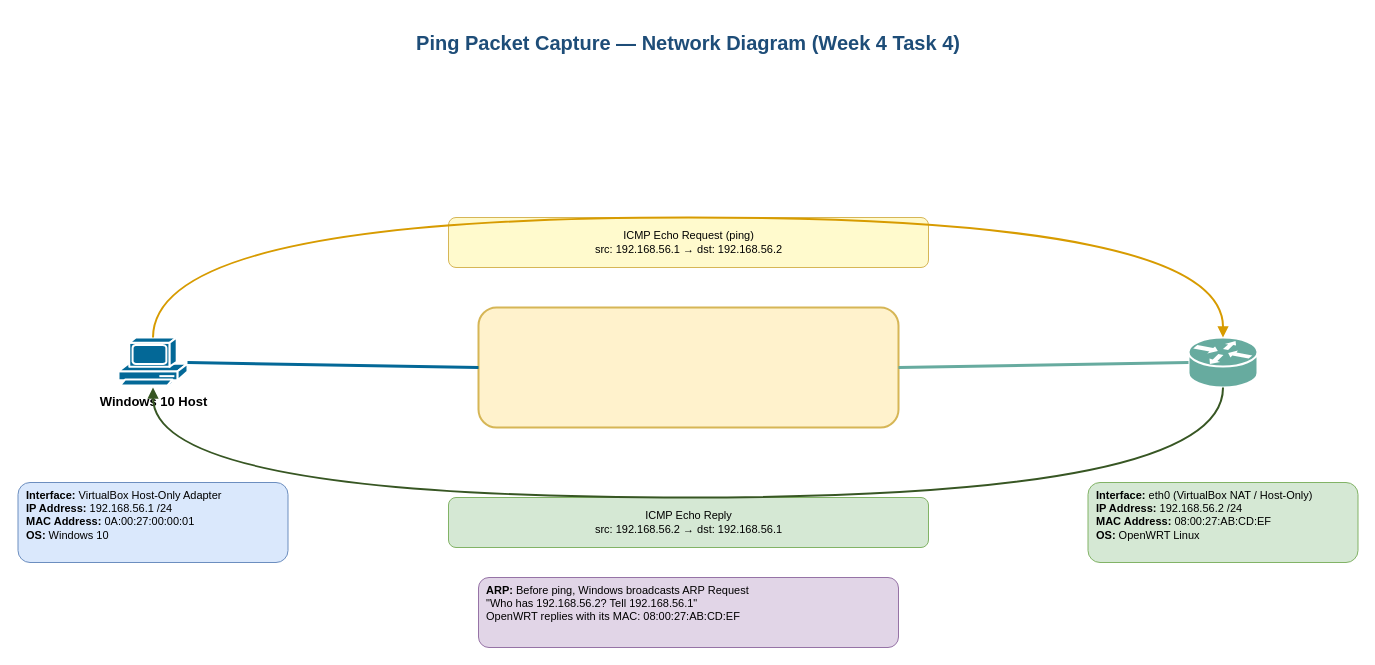
The diagram is 1375 pixels wide and 665 high, and some of its shapes have lost their labels. The shapes that lost their labels are listed below. From the top down, each one's centre as x and y in pixels, then its label:
At point (688, 367): "VirtualBox Host-Only Network Network: 192.168.56.0/24 (Virtual Ethernet Segment)".
At point (1222, 362): "OpenWRT Linux VM".
